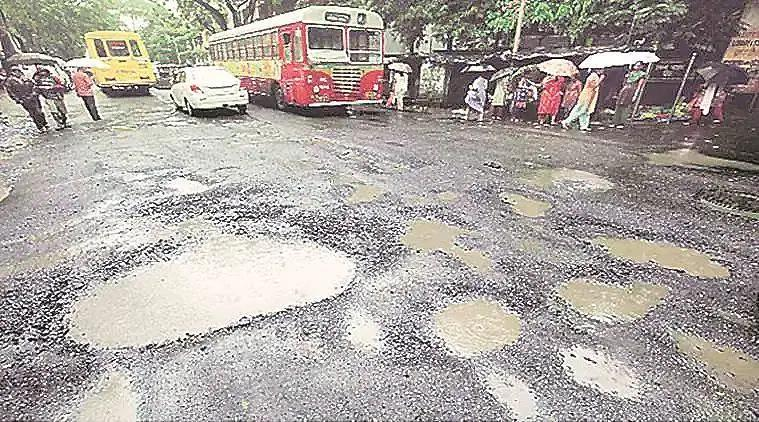Pothole: (393, 162, 759, 422), (5, 158, 390, 385), (485, 182, 566, 225)
